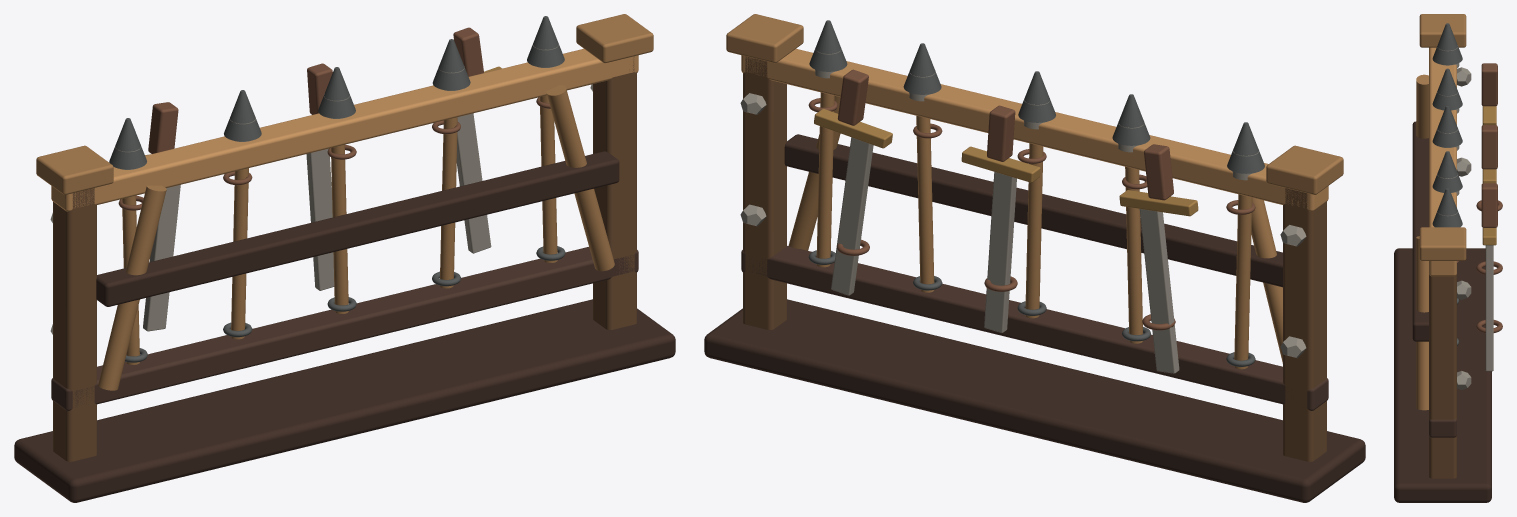
Rendered from extra_weapon_rack.glb.
The picture shows the model from 3 angles, left to right: view 1: azimuth 30°, elevation 25°; view 2: azimuth 150°, elevation 25°; view 3: azimuth 270°, elevation 25°; orthographic projection. The views are drawn at different scales.
Parts seen in each view (by area): view 1: wood, metal, stone; view 2: wood, metal, stone; view 3: wood, metal, stone.
Part boxes in pixels (x1,y1,x2,y2): wood: [14, 14, 675, 502]; metal: [50, 48, 638, 410]; stone: [109, 16, 565, 362]; wood: [704, 14, 1365, 502]; metal: [740, 48, 1328, 410]; stone: [808, 20, 1264, 366]; wood: [1394, 14, 1502, 502]; metal: [1429, 47, 1493, 437]; stone: [1432, 23, 1462, 345].
Size of the model in its own units: 2.6 by 1.4 by 0.5.
